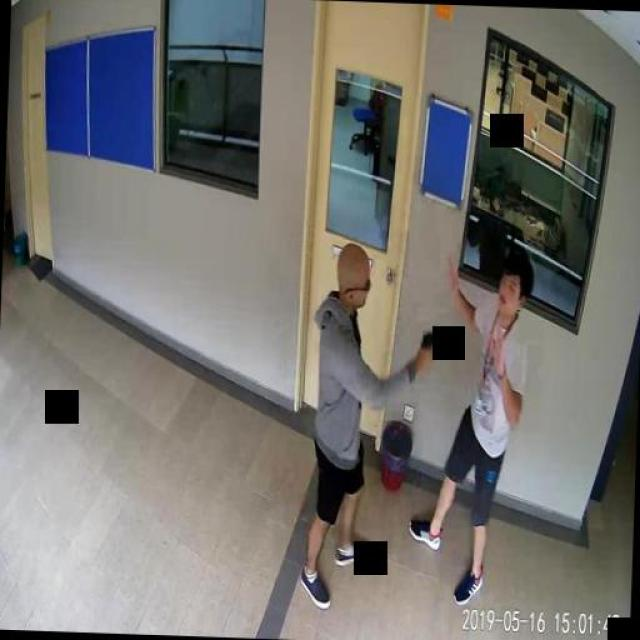gun: (418, 329, 452, 365)
